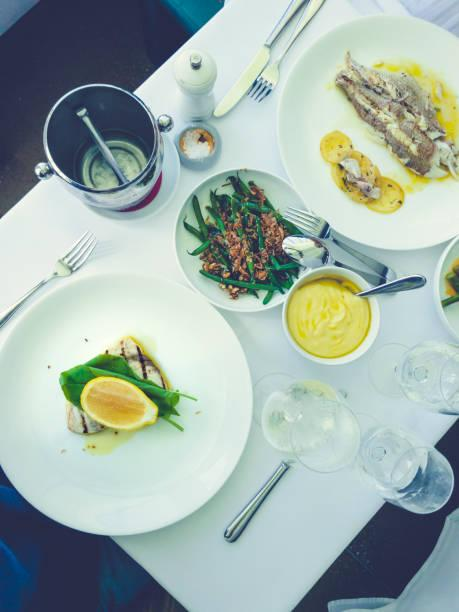Braised Crucian Carp: (0, 271, 251, 533), (274, 9, 459, 252), (172, 166, 312, 306)
